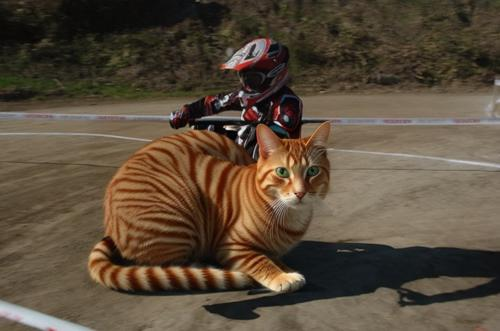cat: (87, 120, 329, 291)
person: (145, 38, 305, 290)
person/foot: (145, 250, 186, 289)
person/hand: (211, 179, 243, 208), (166, 106, 192, 131)
person/head: (233, 39, 294, 96)
